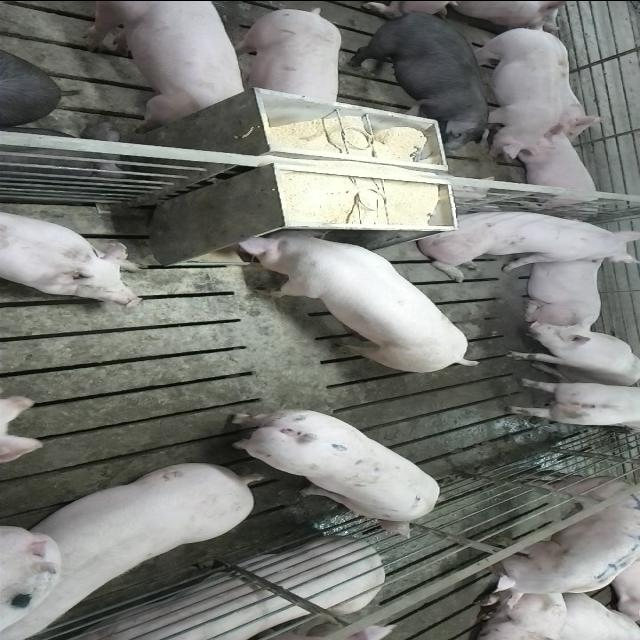Feeding: (230, 220, 480, 368)
Sitting: (410, 204, 636, 275), (501, 320, 639, 386)
Standing: (8, 456, 268, 634), (216, 406, 442, 538), (76, 1, 252, 126), (489, 476, 640, 612), (352, 9, 502, 142), (473, 23, 567, 162), (226, 5, 344, 111), (507, 376, 640, 437)
Sternal_lying: (62, 539, 391, 640), (0, 206, 146, 307), (506, 130, 606, 213), (517, 250, 605, 328)
